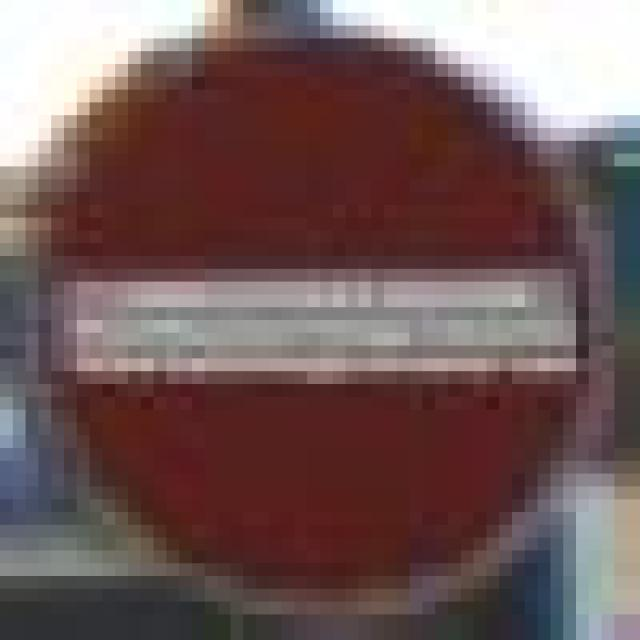NO_ENTRY: (12, 12, 602, 602)
